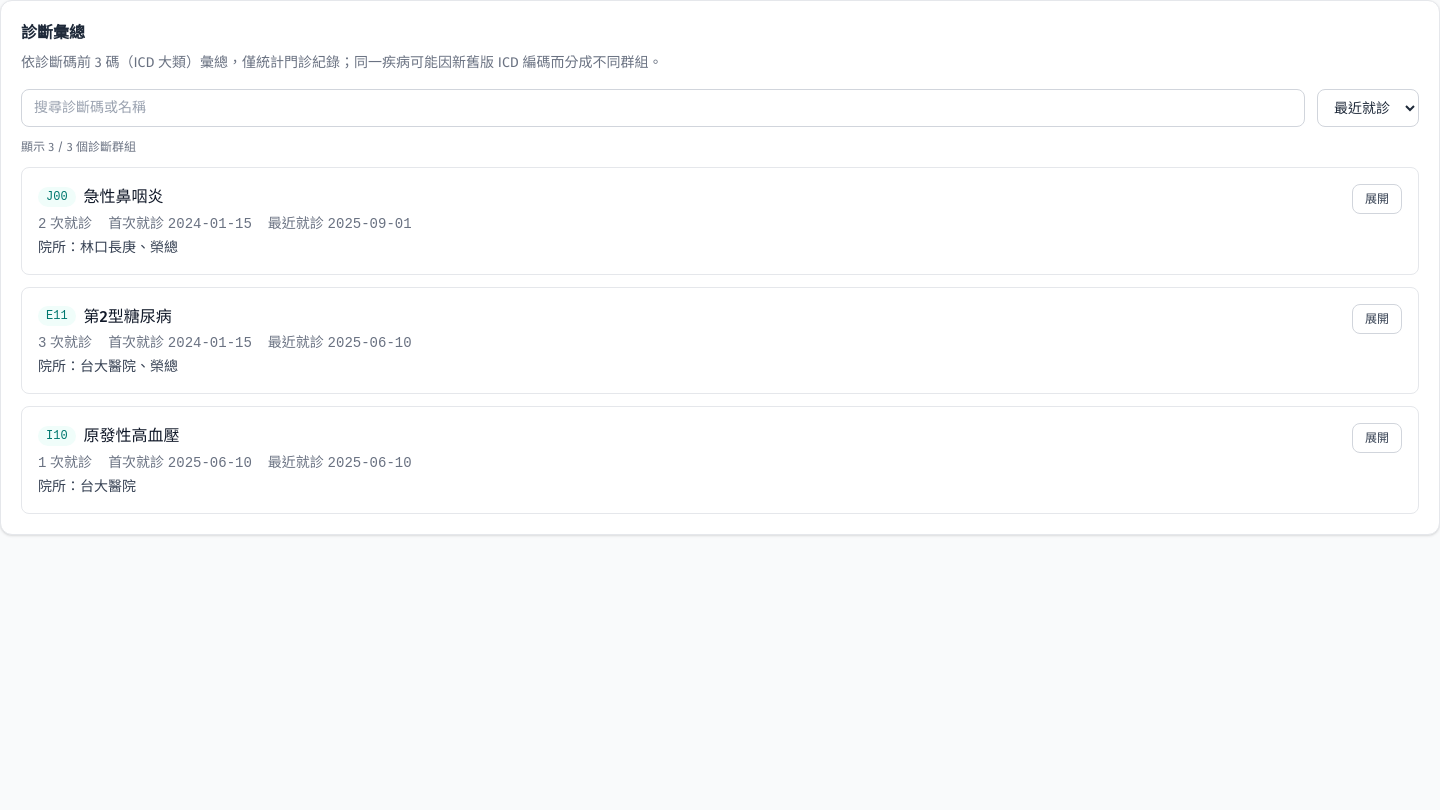
Test case: DiagnosisGroups › 展開與收合細項
Click the button with aria-label "展開 E11 細項". click: [1377, 319]
box: [1352,304,1402,334]
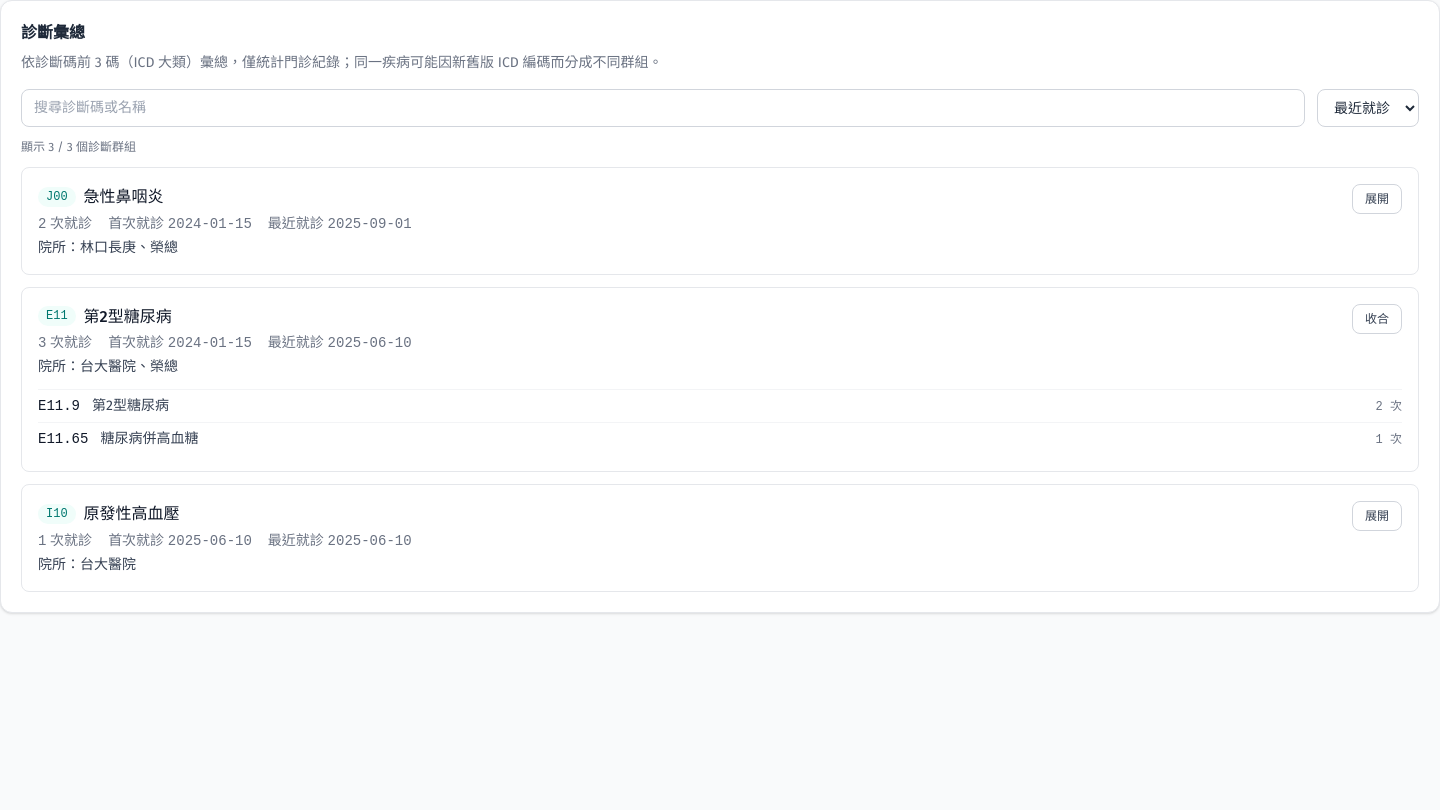
Expected: the button with aria-label "收合 E11 細項" is expanded
Click the button "收合". click: [1377, 319]
box: [1352,304,1402,334]
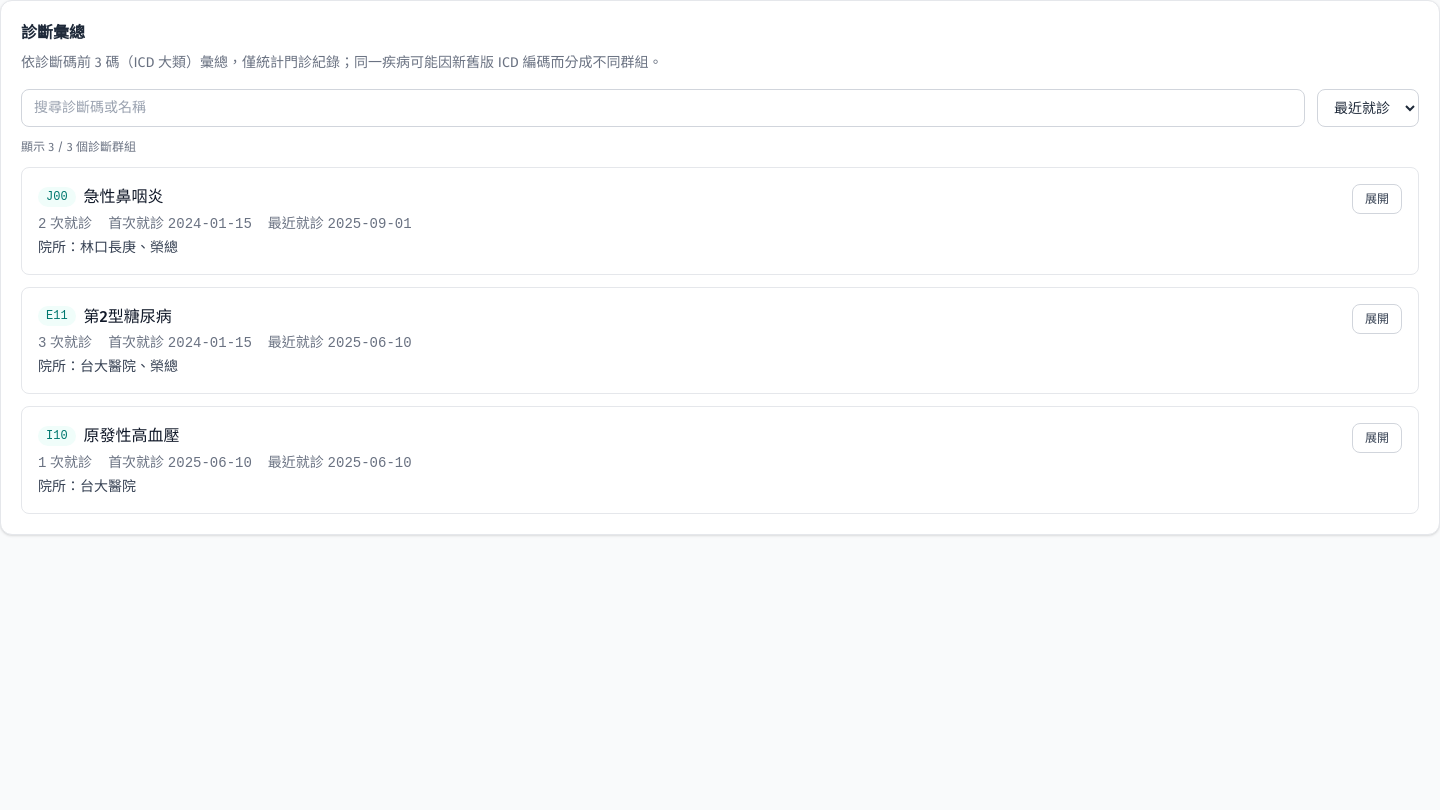
Expected: the button with aria-label "展開 E11 細項" is collapsed, [1352,304,1402,334]
